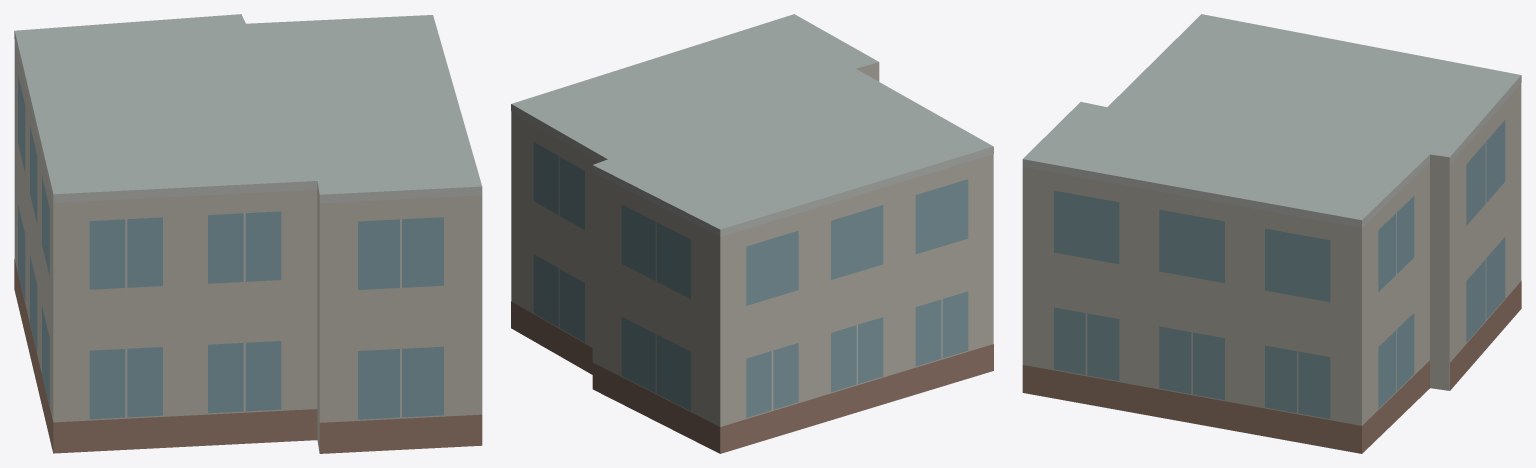
File: survey-upis-32610758.glb
The picture shows the model from 3 angles, left to right: view 1: azimuth 30°, elevation 25°; view 2: azimuth 150°, elevation 25°; view 3: azimuth 270°, elevation 25°; orthographic projection. The views are drawn at different scales.
Parts seen in each view (by area): view 1: survey-upis-32610758.tmp; view 2: survey-upis-32610758.tmp; view 3: survey-upis-32610758.tmp.
Boxes of the visible parts, box(x1,y1,x2,y2) form: survey-upis-32610758.tmp: box(14, 14, 482, 453); survey-upis-32610758.tmp: box(511, 14, 993, 453); survey-upis-32610758.tmp: box(1022, 14, 1521, 453).
Bounding box in the file's own units: 13.82 × 7.3 × 14.13.
